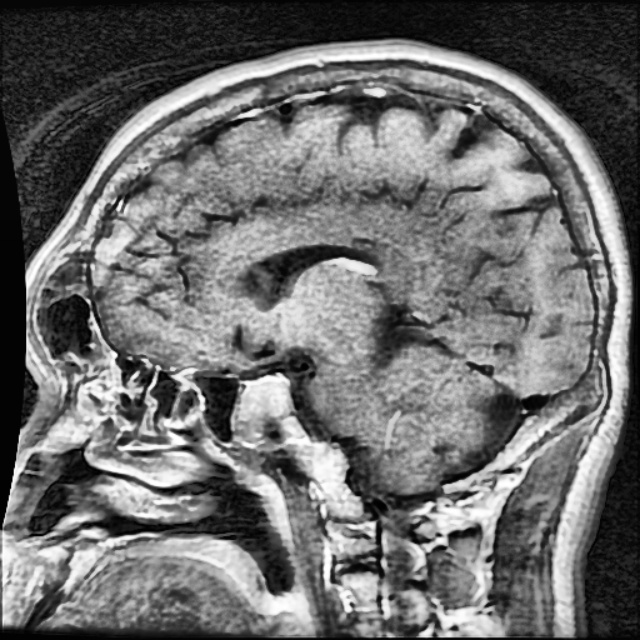Pituitary: (232, 377, 289, 445)
